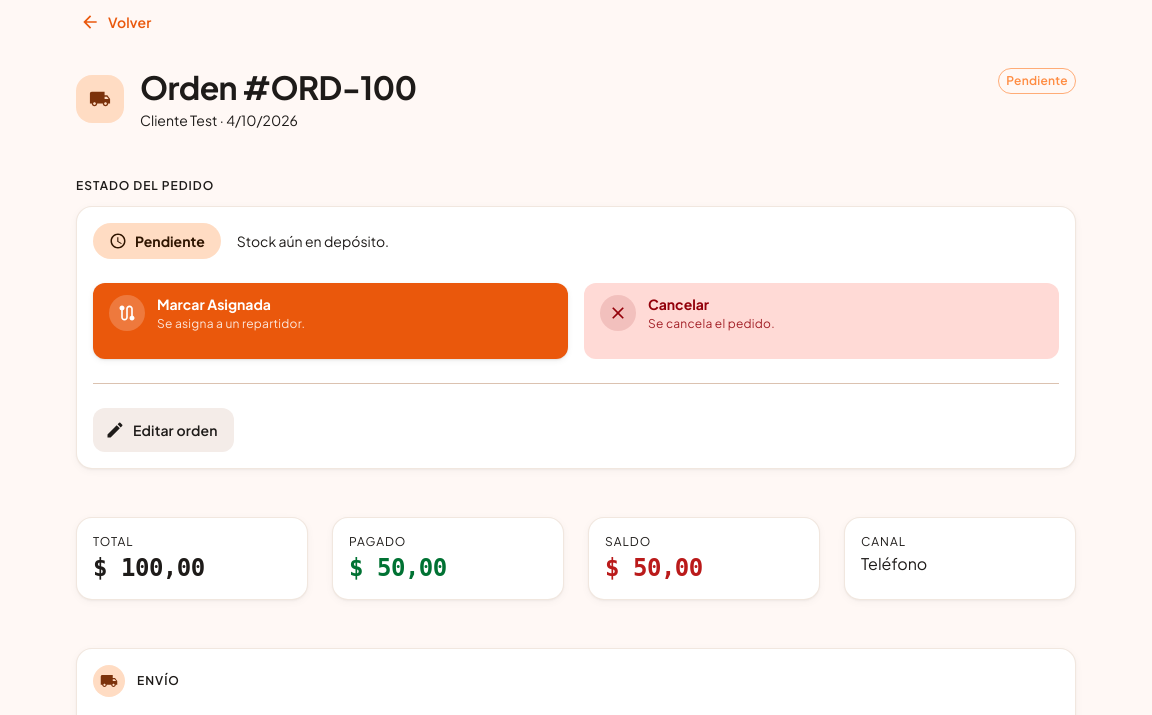
Test case: OrderDetailPage — status change confirmation › shows a neutral consequence for transitions without stock impact
The width and height of the screenshot is (1152, 715).
Expected: the heading "Orden #ORD-100" is shown, [140,68,416,106]
Click the button "Marcar Asignada Se asigna a un repartidor." at (127, 313), box [93,283,568,359]
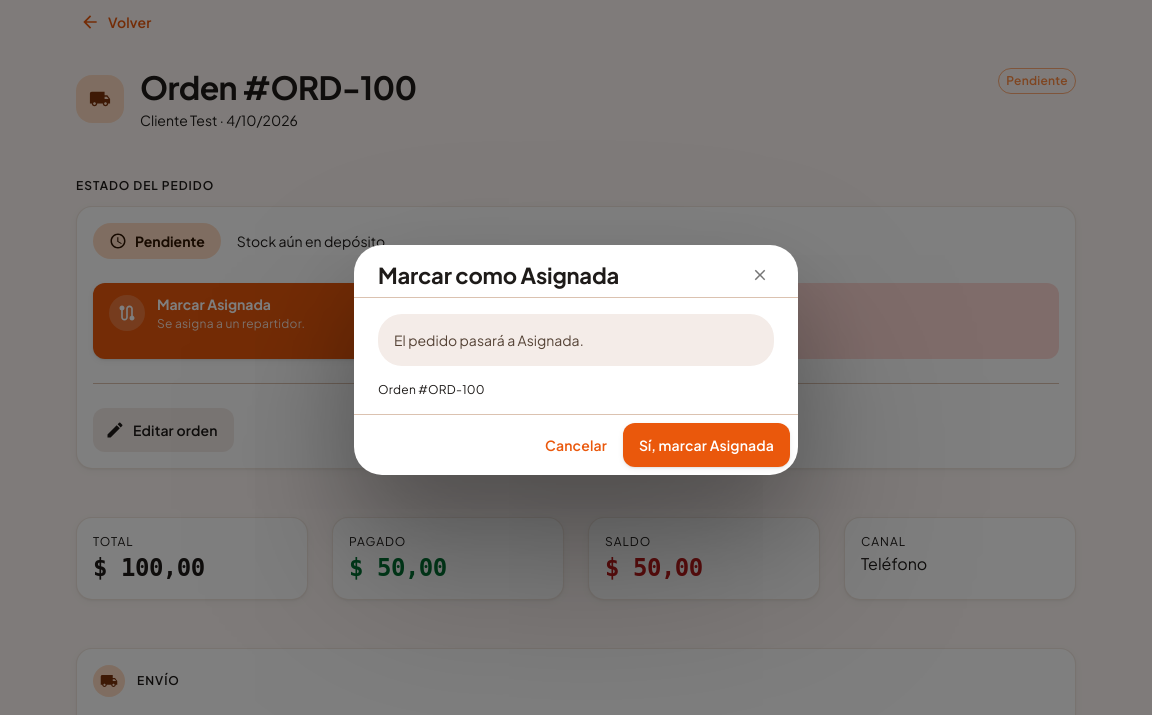
Expected: the heading "Marcar como Asignada" is shown, [378,261,774,289]
Expected: the text "El pedido pasará a Asignada." is shown, [394,331,584,349]
